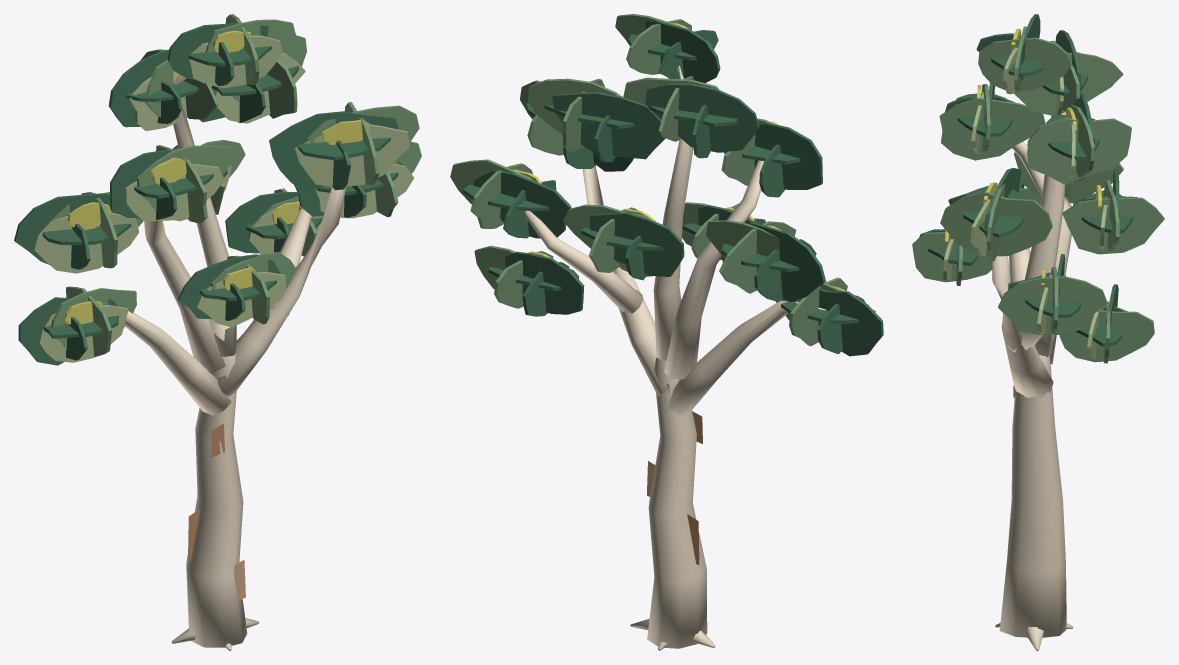
Rendered from TREE_EUCALYPTUS_001_v004_LOD_CLOSE.glb.
The picture shows the model from 3 angles, left to right: view 1: azimuth 30°, elevation 25°; view 2: azimuth 150°, elevation 25°; view 3: azimuth 270°, elevation 25°; orthographic projection.
Parts seen in each view (by area): view 1: TREE_EUCALYPTUS_001_CLOSE_LAYERED_PAPERCUT_MASSES, TREE_EUCALYPTUS_001_CLOSE_SCULPTURAL_LIMB_0, TREE_EUCALYPTUS_001_CLOSE_SCULPTURAL_LIMB_4, TREE_EUCALYPTUS_001_CLOSE_SCULPTURAL_LIMB_1, TREE_EUCALYPTUS_001_CLOSE_SCULPTURAL_LIMB_2, TREE_EUCALYPTUS_001_CLOSE_SCULPTURAL_LIMB_3, TREE_EUCALYPTUS_001_CLOSE_GRAPHIC_BARK_BLOCKS, TREE_EUCALYPTUS_001_CLOSE_SCULPTURAL_LIMB_5; view 2: TREE_EUCALYPTUS_001_CLOSE_LAYERED_PAPERCUT_MASSES, TREE_EUCALYPTUS_001_CLOSE_SCULPTURAL_LIMB_0, TREE_EUCALYPTUS_001_CLOSE_SCULPTURAL_LIMB_2, TREE_EUCALYPTUS_001_CLOSE_SCULPTURAL_LIMB_1, TREE_EUCALYPTUS_001_CLOSE_SCULPTURAL_LIMB_3, TREE_EUCALYPTUS_001_CLOSE_SCULPTURAL_LIMB_4, TREE_EUCALYPTUS_001_CLOSE_SCULPTURAL_LIMB_5, TREE_EUCALYPTUS_001_CLOSE_GRAPHIC_BARK_BLOCKS; view 3: TREE_EUCALYPTUS_001_CLOSE_LAYERED_PAPERCUT_MASSES, TREE_EUCALYPTUS_001_CLOSE_SCULPTURAL_LIMB_0, TREE_EUCALYPTUS_001_CLOSE_SCULPTURAL_LIMB_4, TREE_EUCALYPTUS_001_CLOSE_SCULPTURAL_LIMB_3, TREE_EUCALYPTUS_001_CLOSE_SCULPTURAL_LIMB_2, TREE_EUCALYPTUS_001_CLOSE_SCULPTURAL_LIMB_1.
Boxes of the visible parts, left/top/right/bottom form: TREE_EUCALYPTUS_001_CLOSE_LAYERED_PAPERCUT_MASSES: left=14, top=14, right=421, bottom=365; TREE_EUCALYPTUS_001_CLOSE_SCULPTURAL_LIMB_0: left=186, top=319, right=247, bottom=647; TREE_EUCALYPTUS_001_CLOSE_SCULPTURAL_LIMB_4: left=217, top=187, right=345, bottom=396; TREE_EUCALYPTUS_001_CLOSE_SCULPTURAL_LIMB_1: left=124, top=311, right=231, bottom=415; TREE_EUCALYPTUS_001_CLOSE_SCULPTURAL_LIMB_2: left=144, top=220, right=225, bottom=372; TREE_EUCALYPTUS_001_CLOSE_SCULPTURAL_LIMB_3: left=173, top=74, right=236, bottom=356; TREE_EUCALYPTUS_001_CLOSE_GRAPHIC_BARK_BLOCKS: left=188, top=423, right=245, bottom=600; TREE_EUCALYPTUS_001_CLOSE_SCULPTURAL_LIMB_5: left=269, top=208, right=314, bottom=315; TREE_EUCALYPTUS_001_CLOSE_LAYERED_PAPERCUT_MASSES: left=450, top=14, right=883, bottom=356; TREE_EUCALYPTUS_001_CLOSE_SCULPTURAL_LIMB_0: left=647, top=357, right=707, bottom=648; TREE_EUCALYPTUS_001_CLOSE_SCULPTURAL_LIMB_2: left=664, top=160, right=763, bottom=379; TREE_EUCALYPTUS_001_CLOSE_SCULPTURAL_LIMB_1: left=667, top=300, right=825, bottom=415; TREE_EUCALYPTUS_001_CLOSE_SCULPTURAL_LIMB_3: left=653, top=45, right=693, bottom=360; TREE_EUCALYPTUS_001_CLOSE_SCULPTURAL_LIMB_4: left=582, top=166, right=677, bottom=396; TREE_EUCALYPTUS_001_CLOSE_SCULPTURAL_LIMB_5: left=525, top=210, right=643, bottom=313; TREE_EUCALYPTUS_001_CLOSE_GRAPHIC_BARK_BLOCKS: left=647, top=383, right=702, bottom=564; TREE_EUCALYPTUS_001_CLOSE_LAYERED_PAPERCUT_MASSES: left=912, top=14, right=1164, bottom=363; TREE_EUCALYPTUS_001_CLOSE_SCULPTURAL_LIMB_0: left=999, top=354, right=1066, bottom=637; TREE_EUCALYPTUS_001_CLOSE_SCULPTURAL_LIMB_4: left=992, top=256, right=1053, bottom=398; TREE_EUCALYPTUS_001_CLOSE_SCULPTURAL_LIMB_3: left=1024, top=112, right=1065, bottom=357; TREE_EUCALYPTUS_001_CLOSE_SCULPTURAL_LIMB_2: left=1012, top=141, right=1071, bottom=364; TREE_EUCALYPTUS_001_CLOSE_SCULPTURAL_LIMB_1: left=1009, top=248, right=1030, bottom=398.
Bounding box in the file's own units: 10.01 × 14.02 × 5.3.
